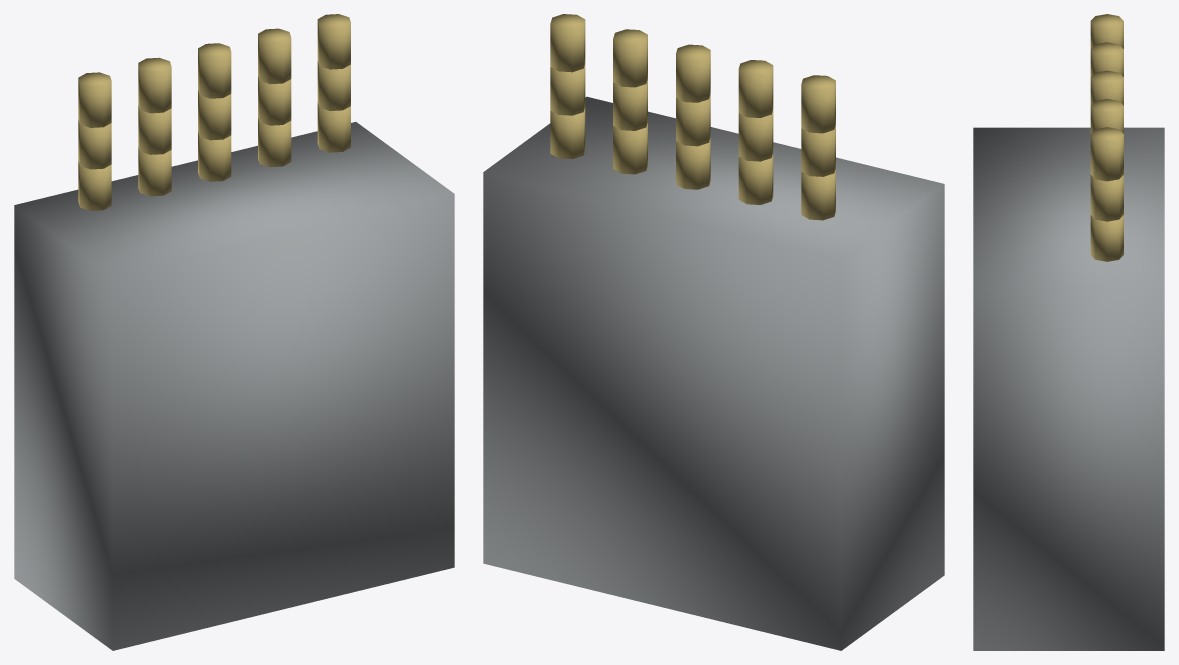
File: votive_candle_stand__tall.glb
3 views of the same model, side by side, from view 1: azimuth 30°, elevation 25°; view 2: azimuth 150°, elevation 25°; view 3: azimuth 270°, elevation 25° (orthographic). The views are drawn at different scales.
Parts seen in each view (by area): view 1: world; view 2: world; view 3: world.
Part boxes in pixels (box(x1,y1,x2,y2)): world: box(14, 14, 454, 650); world: box(483, 14, 944, 650); world: box(973, 14, 1164, 650).
Size of the model in its own units: 0.8 by 1.14 by 0.4.
